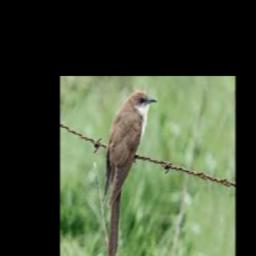Cuckoo: (103, 90, 157, 256)
